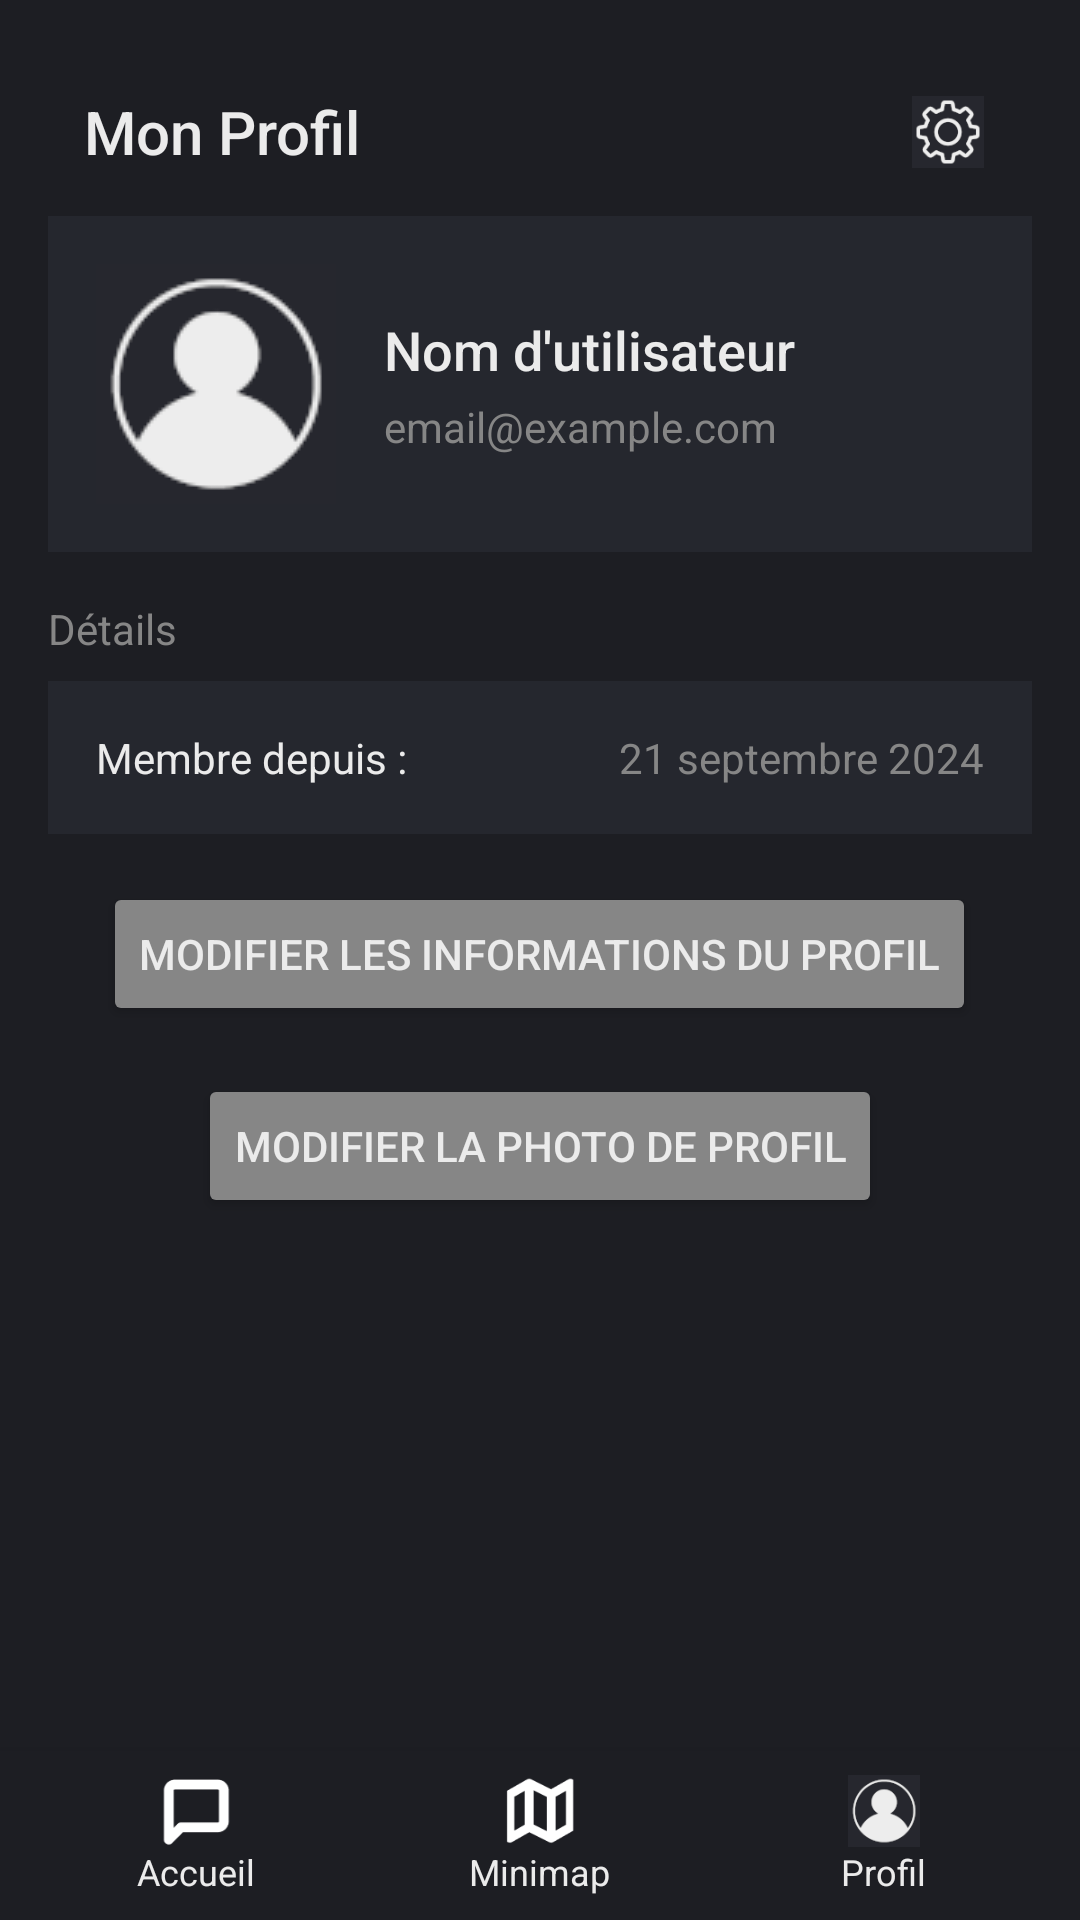

Point at icon controls on the screen. Image size 1080×1920, points as point (x, y).
Avatar: point (216, 384)
Bouton Parametres: point (948, 132)
